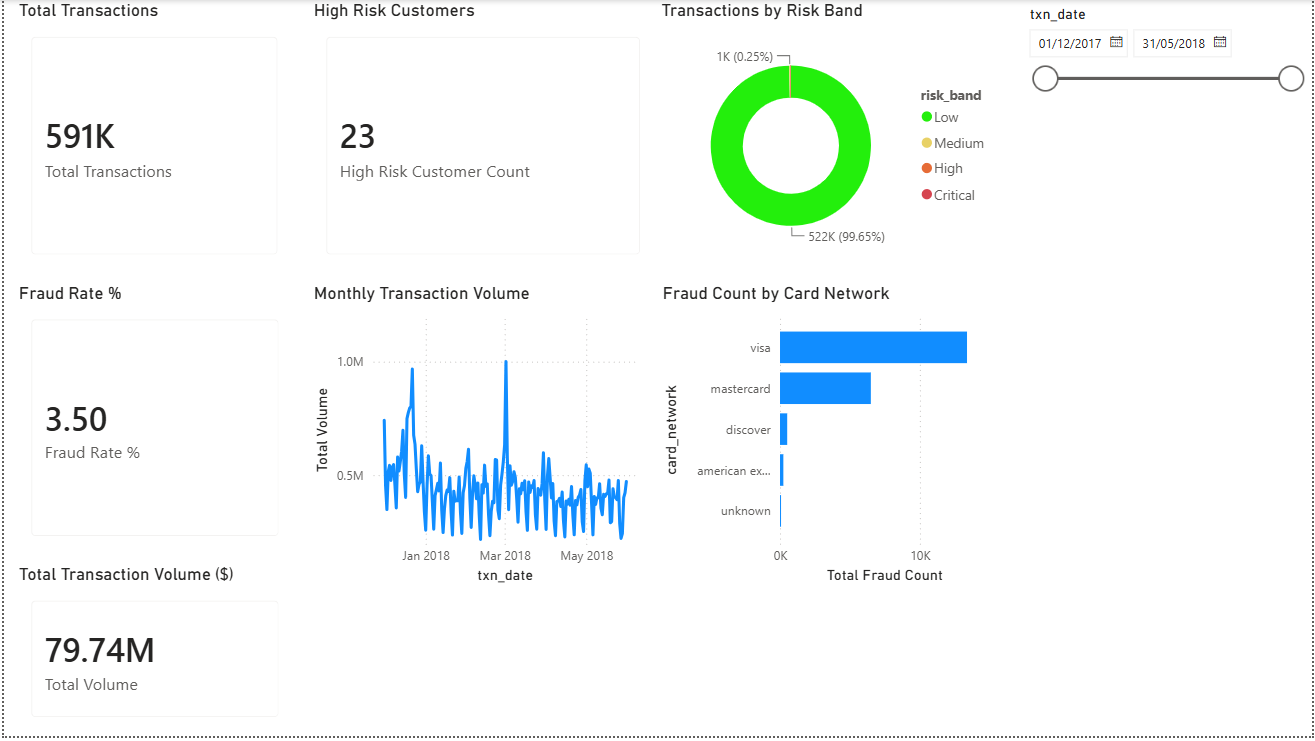

Layout of this report page (visuals, bound fields, positions):
{"tool":"powerbi","page":{"name":"Executive Overview","canvas":[1280,720],"ordinal":0},"visuals":[{"type":"cardVisual","title":"Total Transactions","fields":{"Data":["Total Transactions.Total Transactions"]},"box":[9.6,0,275.8,266.2],"z":0},{"type":"cardVisual","title":"Fraud Rate %","fields":{"Data":["Total Transactions.Fraud Rate %"]},"box":[10,276,276,266],"z":1000},{"type":"cardVisual","title":"Total Transaction Volume ($)","fields":{"Data":["Total Transactions.Total Volume"]},"box":[10,552,276,168],"z":2000},{"type":"cardVisual","title":"High Risk Customers","fields":{"Data":["mart_customer_360.High Risk Customer Count"]},"box":[297.8,0,341.7,266.2],"z":3000},{"type":"lineChart","title":"Monthly Transaction Volume ","fields":{"Y":["mart_fraud_dashboard.Total Volume"],"Category":["mart_fraud_dashboard.txn_date"]},"box":[297.8,275.8,341.7,299.1],"z":4000},{"type":"donutChart","title":"Transactions by Risk Band","fields":{"Category":["mart_fraud_dashboard.risk_band"],"Y":["Sum(mart_fraud_dashboard.total_transactions)"]},"box":[638.9,0,341.3,266.3],"z":5000},{"type":"clusteredBarChart","title":"Fraud Count by Card Network","fields":{"Category":["mart_fraud_dashboard.card_network"],"Y":["mart_fraud_dashboard.Total Fraud Count"]},"box":[640,276,340,299],"z":6000},{"type":"slicer","fields":{"Values":["mart_fraud_dashboard.txn_date"]},"box":[990,0,290,266],"z":7000}]}

Visuals, with their boxes in screenshot pixels (x1, y1, x2, y2), scaled from the page's 1280x720 canvas onto the 1315x741 screenshot:
"Total Transactions" cardVisual: <bbox>10, 0, 293, 274</bbox>
"Fraud Rate %" cardVisual: <bbox>10, 284, 294, 558</bbox>
"Total Transaction Volume ($)" cardVisual: <bbox>10, 568, 294, 740</bbox>
"High Risk Customers" cardVisual: <bbox>306, 0, 657, 274</bbox>
"Monthly Transaction Volume " lineChart: <bbox>306, 284, 657, 592</bbox>
"Transactions by Risk Band" donutChart: <bbox>656, 0, 1007, 274</bbox>
"Fraud Count by Card Network" clusteredBarChart: <bbox>658, 284, 1007, 592</bbox>
slicer - mart_fraud_dashboard.txn_date: <bbox>1017, 0, 1314, 274</bbox>
